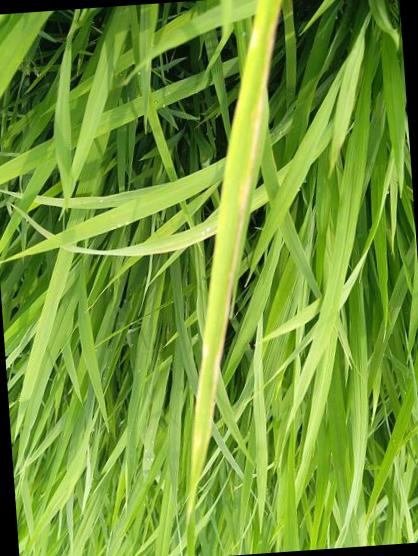Leaf Blight: (190, 38, 273, 493)
